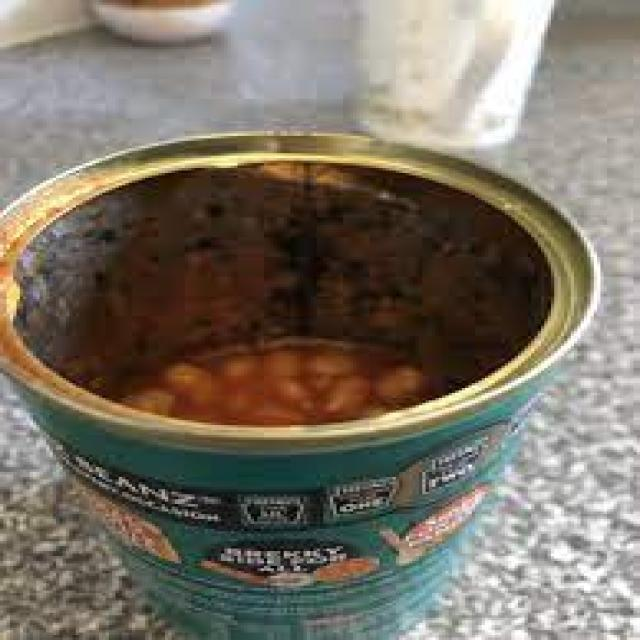metal-can: (0, 123, 610, 640)
